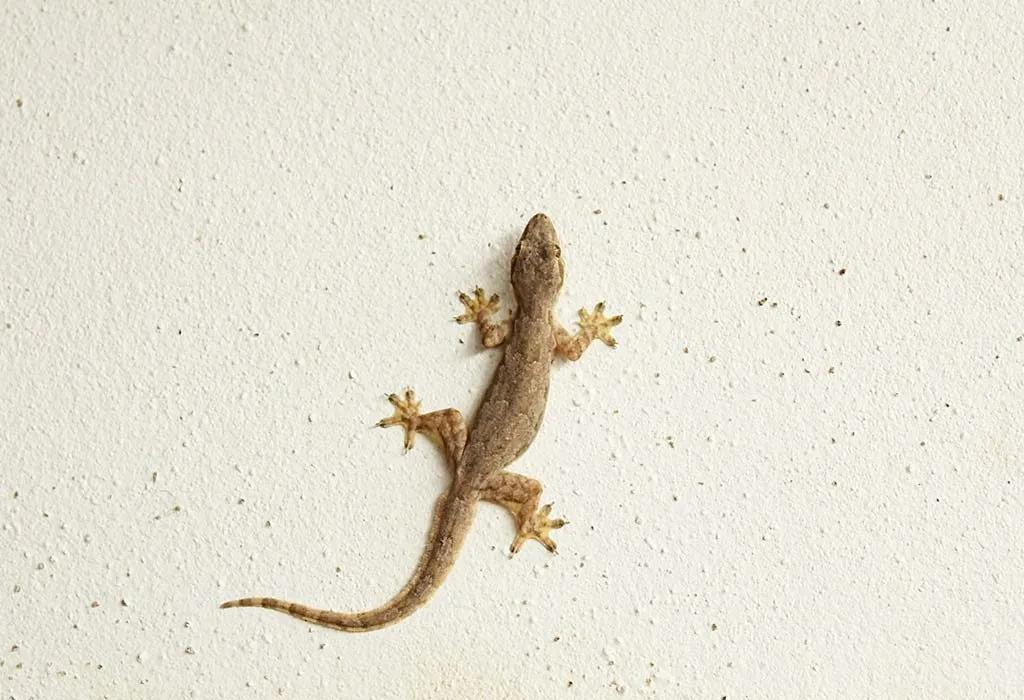lizard: (219, 209, 626, 634)
